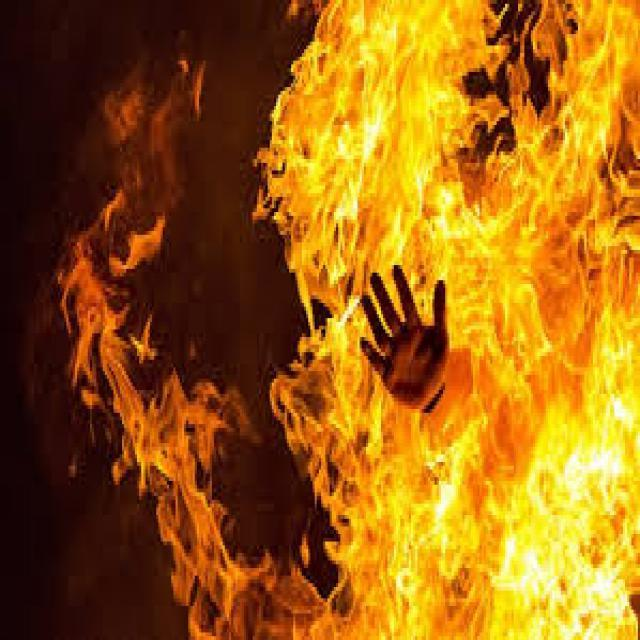fire: (98, 11, 640, 636)
